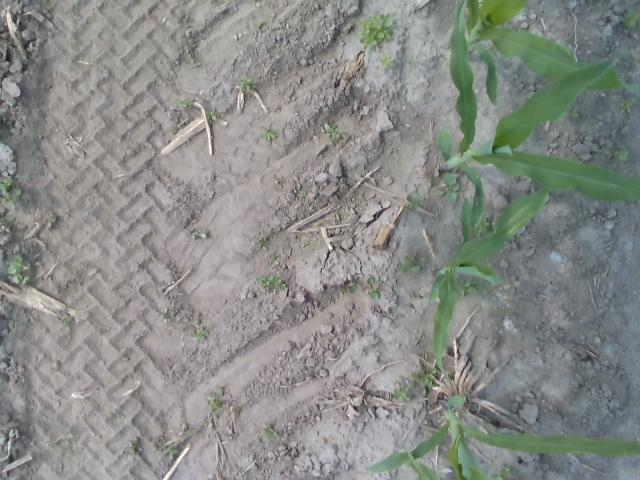Maize: (432, 0, 640, 236), (428, 186, 554, 388), (363, 393, 640, 480), (456, 0, 640, 108)
Weeds: (356, 12, 393, 51), (434, 172, 467, 206), (410, 366, 438, 395), (6, 253, 31, 285), (0, 177, 23, 209), (455, 276, 488, 298), (396, 253, 426, 274), (472, 216, 496, 238), (256, 272, 285, 290), (619, 6, 640, 28), (322, 122, 346, 141), (392, 377, 410, 402), (191, 317, 208, 341), (404, 194, 424, 213), (237, 74, 257, 92), (490, 465, 514, 480), (206, 395, 222, 417), (366, 276, 380, 300), (160, 444, 179, 461), (260, 424, 278, 440), (126, 438, 143, 454), (259, 126, 276, 142), (174, 96, 193, 110), (486, 38, 498, 60), (613, 146, 629, 162), (253, 236, 269, 252), (619, 97, 634, 114), (159, 306, 172, 324), (380, 54, 394, 68), (44, 212, 56, 228), (192, 228, 208, 238), (205, 109, 217, 120), (268, 254, 279, 265), (0, 214, 15, 222), (406, 57, 414, 71), (204, 421, 215, 431), (340, 286, 351, 296), (568, 109, 580, 118), (168, 124, 178, 134), (64, 316, 74, 326), (256, 18, 266, 26), (354, 283, 362, 292), (48, 441, 55, 451), (298, 190, 306, 198), (187, 52, 193, 58)
